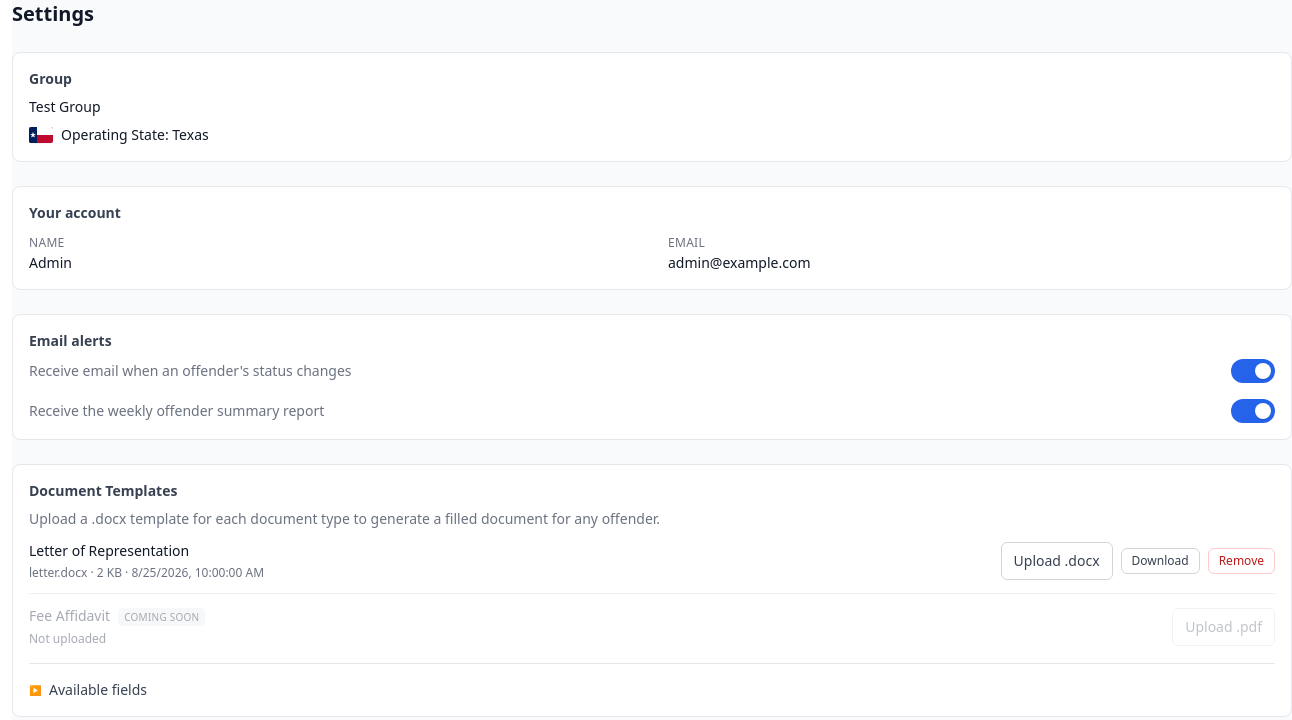
Test: Settings › document templates › expands the available fields list to show placeholders
This screenshot has width=1292, height=720.
Click the button "▶ Available fields".
click(88, 690)  # box [29, 680, 147, 700]
(page scrolled)
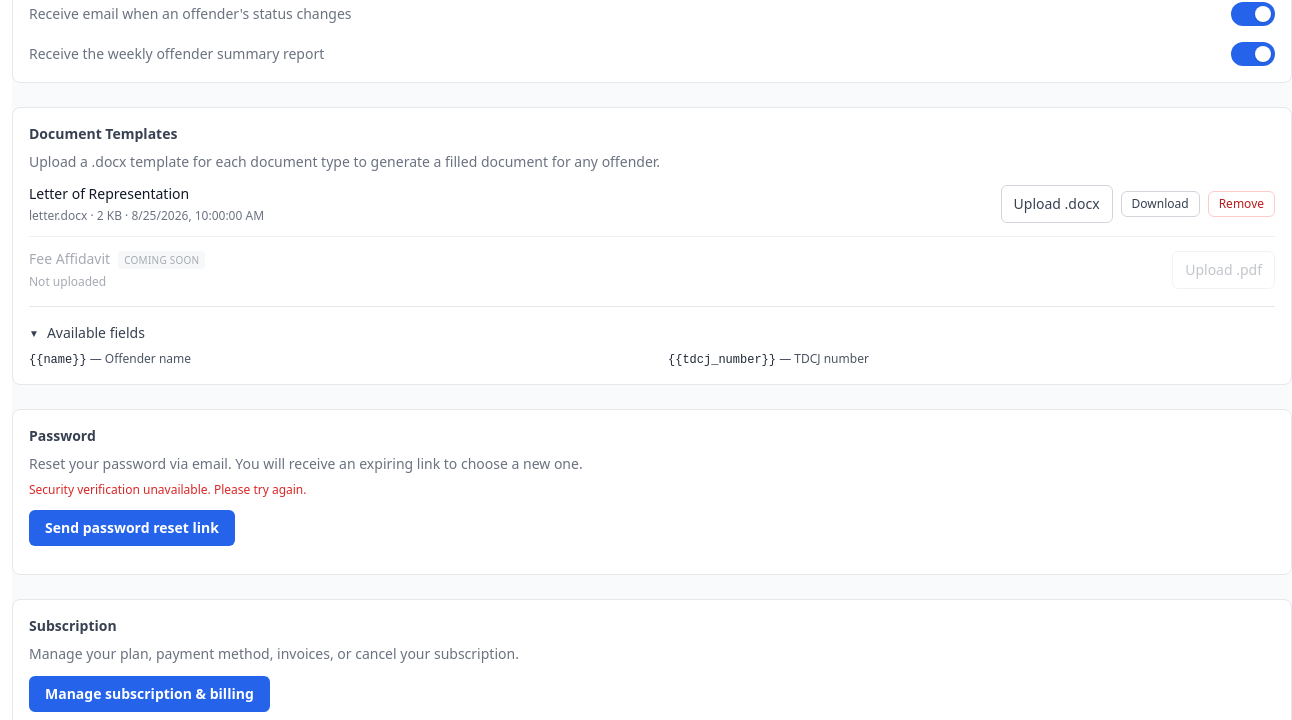
Result: the button "▼ Available fields" is expanded at [29, 323, 145, 343]
Result: the text "{{name}}" is shown at [29, 353, 87, 367]
Result: the list item "{{name}} — Offender name" is shown at [29, 350, 191, 367]
